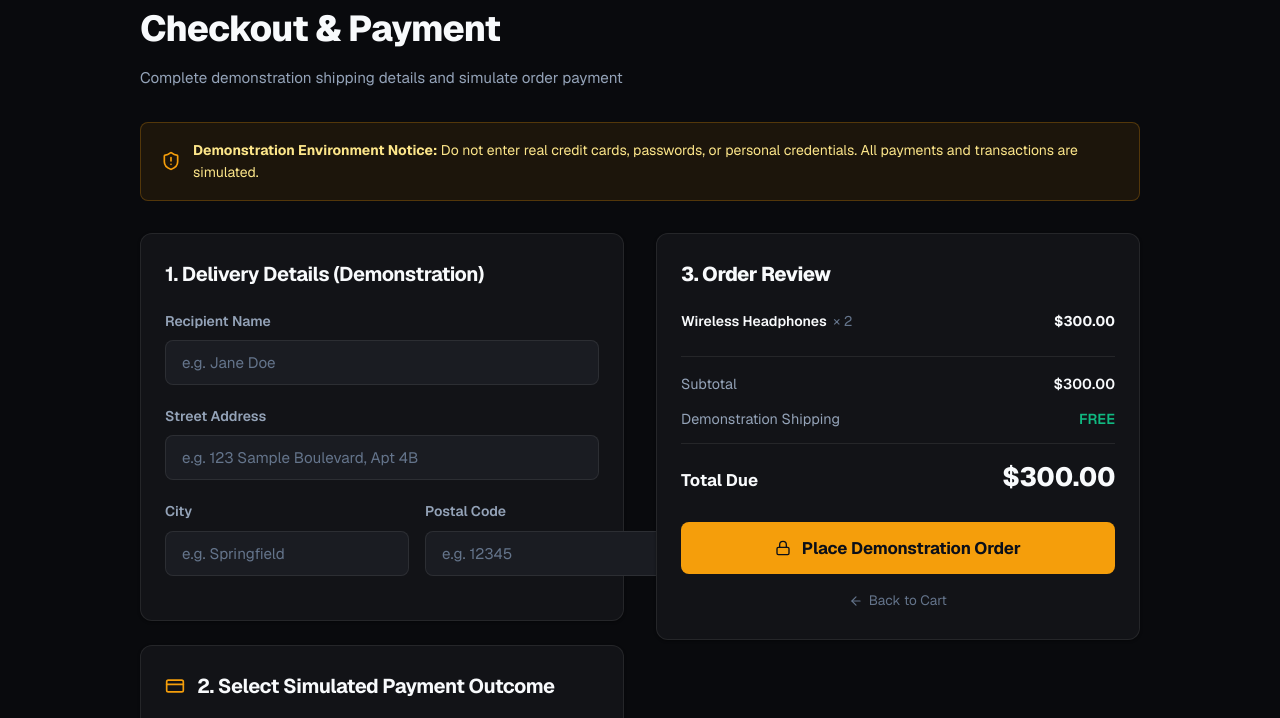
it: Phase 5: Checkout & Simulated Payment Frontend Tests › T-CHK-UI-04: Selecting "Simulate Payment Decline" displays decline error message without clearing fields
Expected: the text "Wireless Headphones" is shown, top-left (681, 312), bottom-right (827, 330)
Type "Jane Doe" into the field with placeholder "e.g. Jane Doe".
click(382, 363); type("Jane Doe")  # box top-left (165, 340), bottom-right (599, 385)
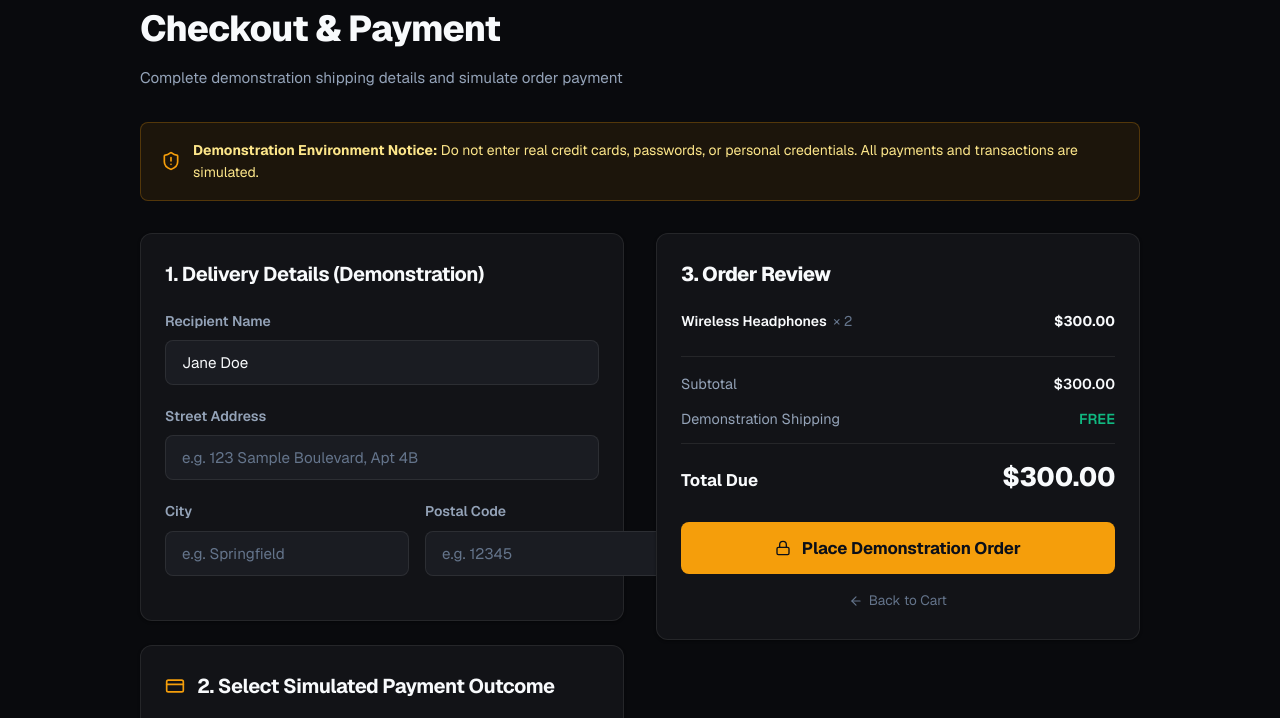
Type "123 Test St" into the field with placeholder "e.g. 123 Sample Boulevard, Apt 4B".
click(382, 458); type("123 Test St")  # box top-left (165, 436), bottom-right (599, 480)
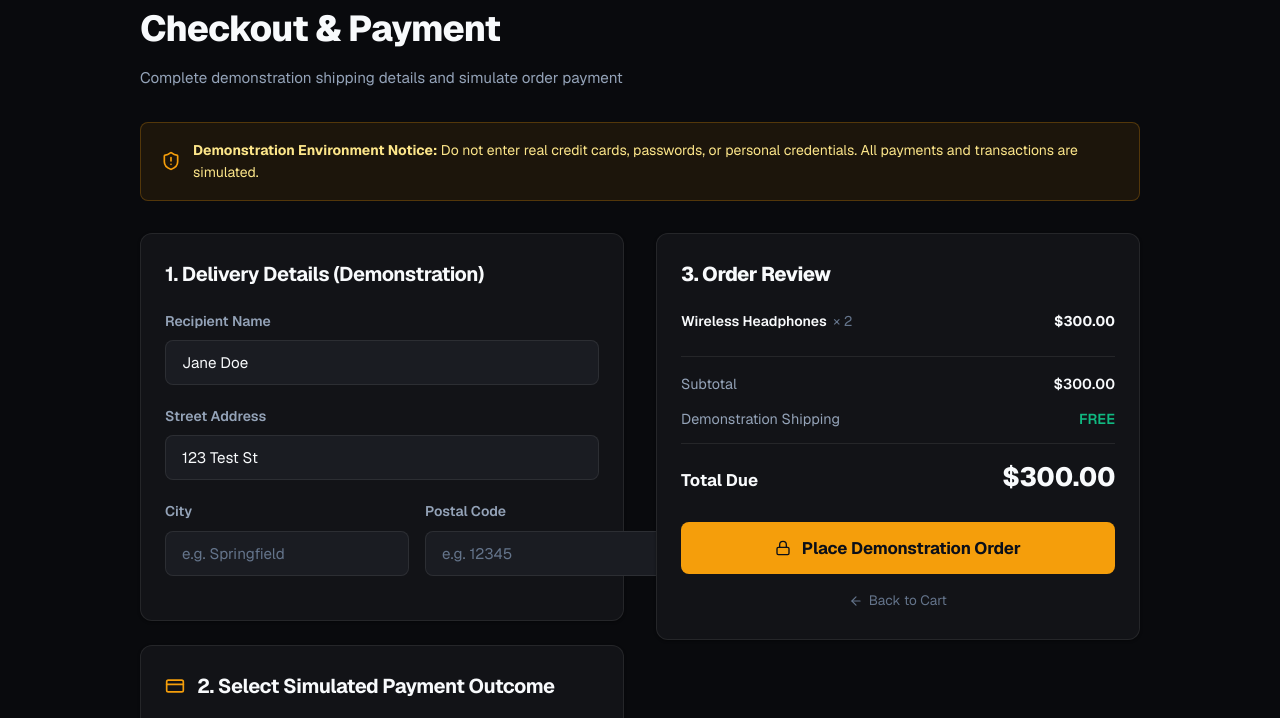
Type "Springfield" into the field with placeholder "e.g. Springfield".
click(287, 553); type("Springfield")  # box top-left (165, 531), bottom-right (409, 576)
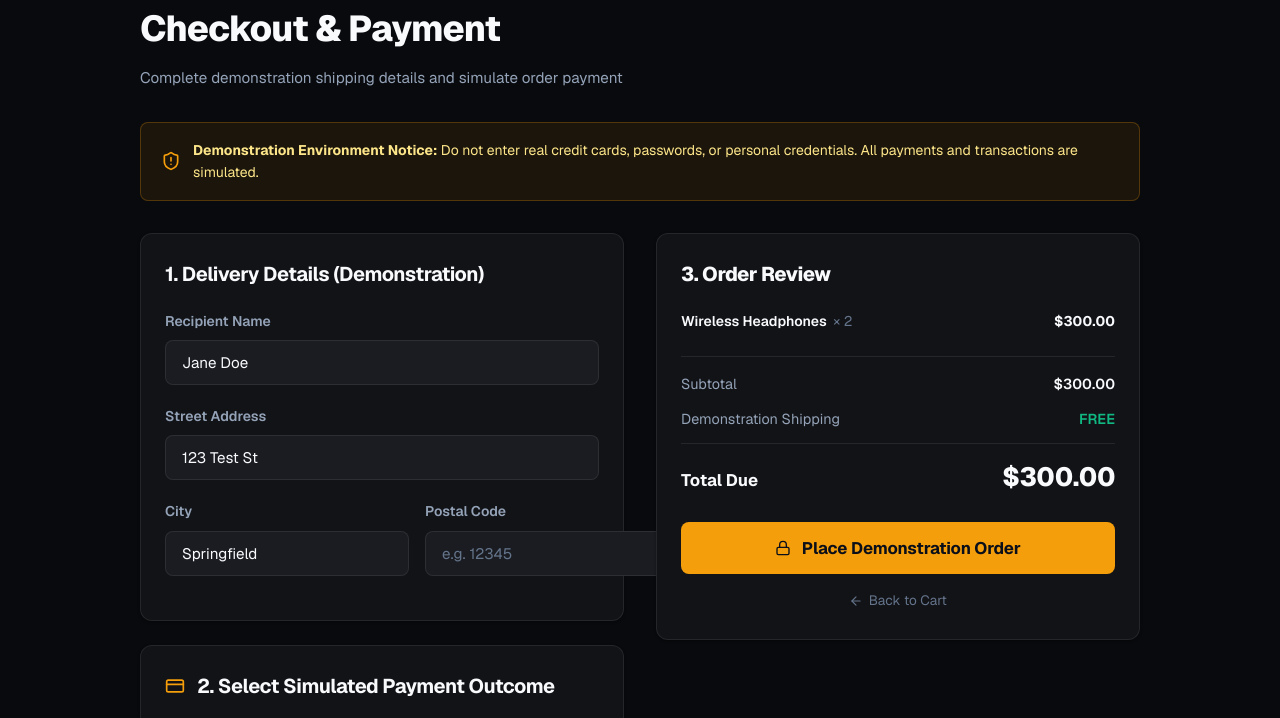
Type "12345" into the field with placeholder "e.g. 12345".
click(547, 553); type("12345")  # box top-left (425, 531), bottom-right (669, 576)
(page scrolled)
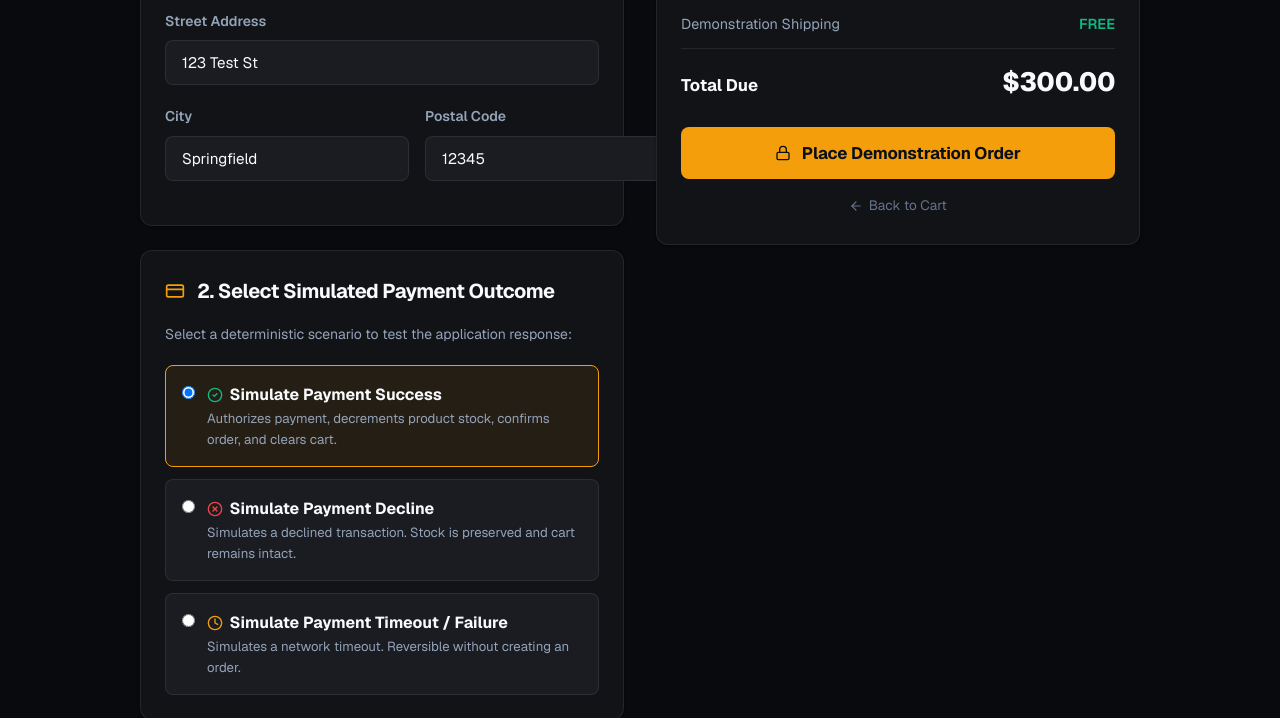
Note: Select Decline option
Click the radio button labelled "Simulate Payment Decline".
click(188, 507)  # box top-left (182, 500), bottom-right (195, 513)
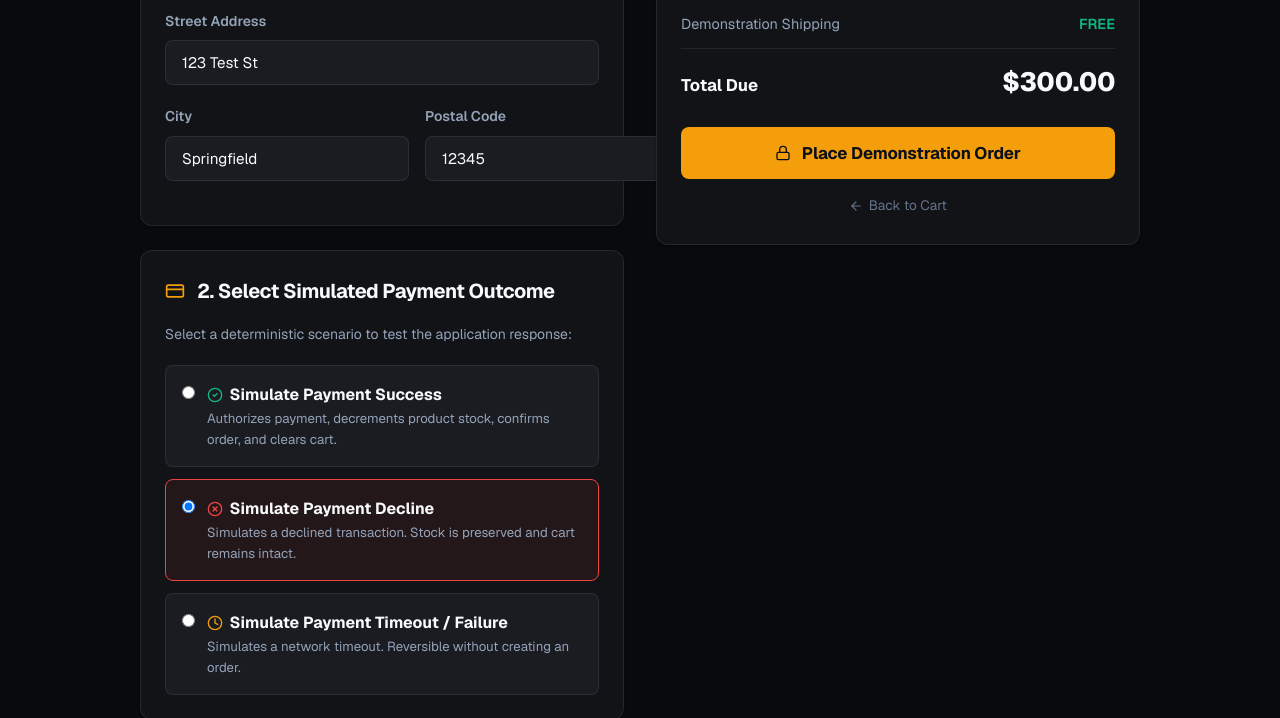
Click the button "Place Demonstration Order".
click(898, 153)  # box top-left (681, 127), bottom-right (1115, 179)
(page scrolled)
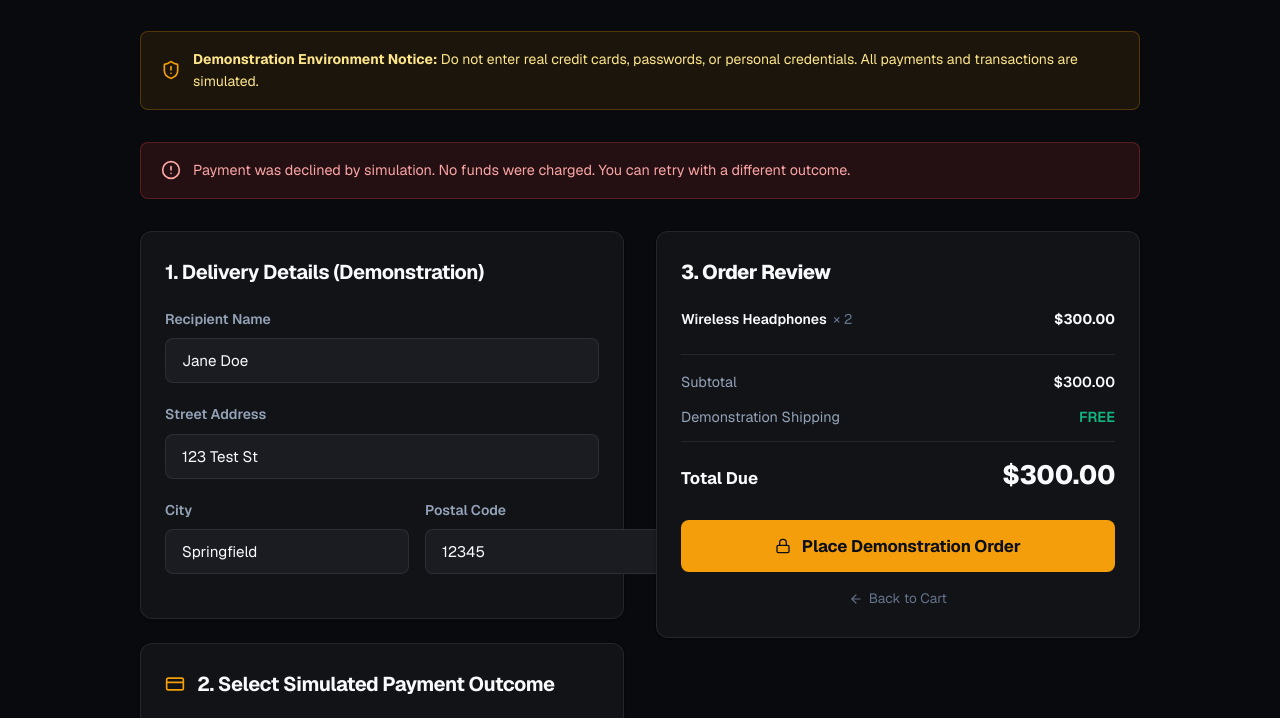
Expected: the message shows "declined by simulation", top-left (193, 161), bottom-right (850, 179)
